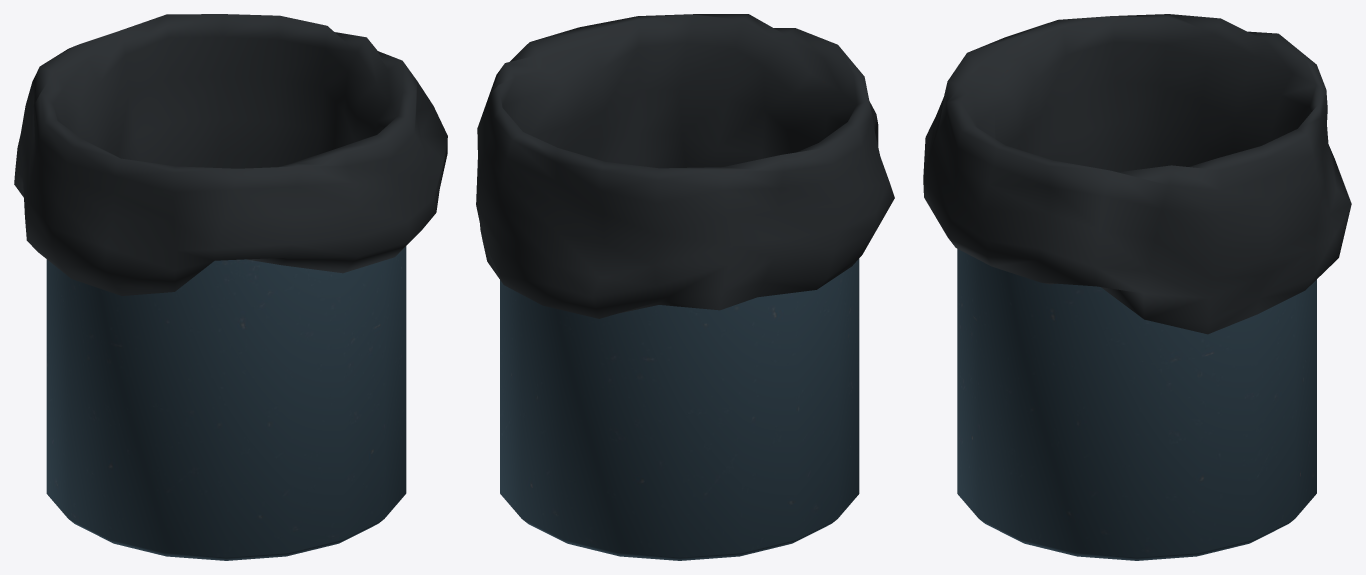
File: TrashCan.fbx
The picture shows the model from 3 angles, left to right: view 1: azimuth 30°, elevation 25°; view 2: azimuth 150°, elevation 25°; view 3: azimuth 270°, elevation 25°; orthographic projection.
Parts seen in each view (by area): view 1: TrashCan; view 2: TrashCan; view 3: TrashCan.
Boxes of the visible parts, box(x1,y1,x2,y2) form: TrashCan: box(14, 14, 447, 560); TrashCan: box(476, 14, 894, 560); TrashCan: box(923, 14, 1351, 560).
Size of the model in its own units: 51.39 by 50.64 by 49.35.
Materials: 1 (1 with a texture image).
